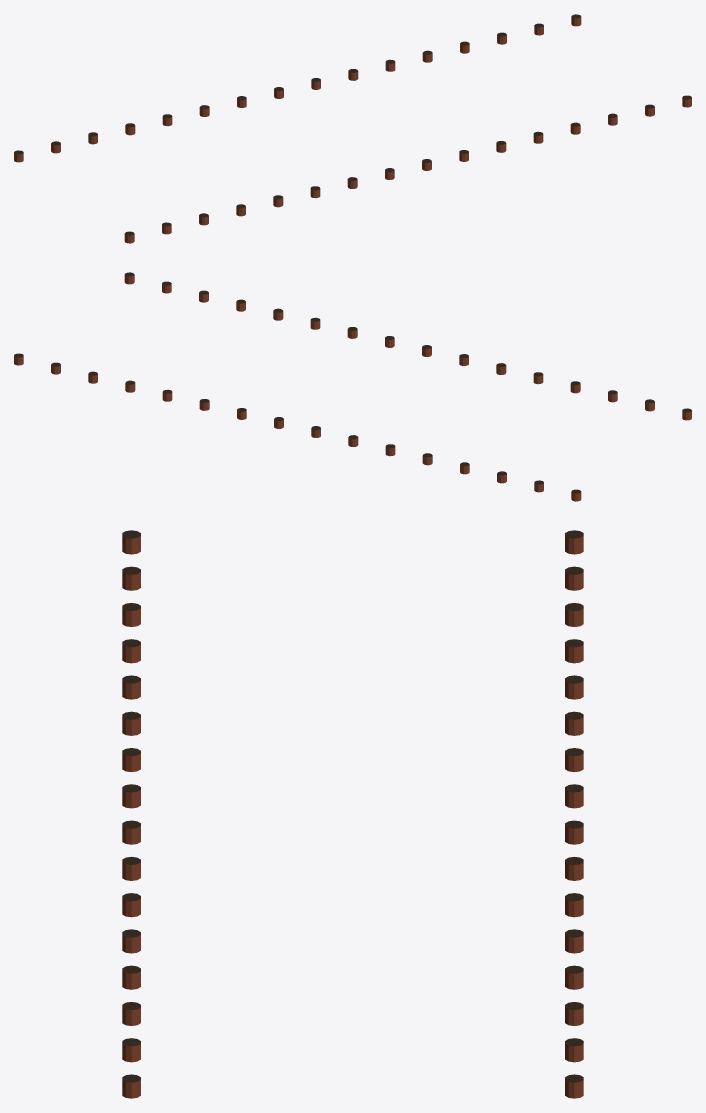
Rendered from 1271-Buildings-shell-pieces-roof-terrace-emitTerrace-960-triangles-37-18-x-0-50-x-13-.glb.
The picture shows the model from 3 angles, top to bottom: view 1: azimuth 30°, elevation 25°; view 2: azimuth 150°, elevation 25°; view 3: azimuth 270°, elevation 25°; orthographic projection. The views are drawn at different scales.
Visible parts, largest first — view 1: emitTerrace; view 2: emitTerrace; view 3: emitTerrace.
Part boxes in pixels (x1=…): emitTerrace: x1=14, y1=14, x2=691, y2=243; emitTerrace: x1=14, y1=272, x2=691, y2=501; emitTerrace: x1=122, y1=530, x2=583, y2=1098.
Size of the model in its own units: 37.18 by 0.5 by 13.13.
